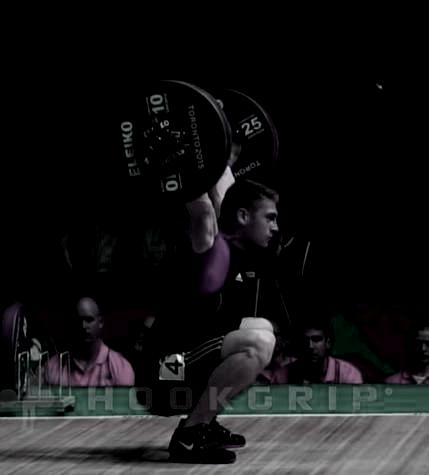Barbell: (148, 134, 167, 153)
